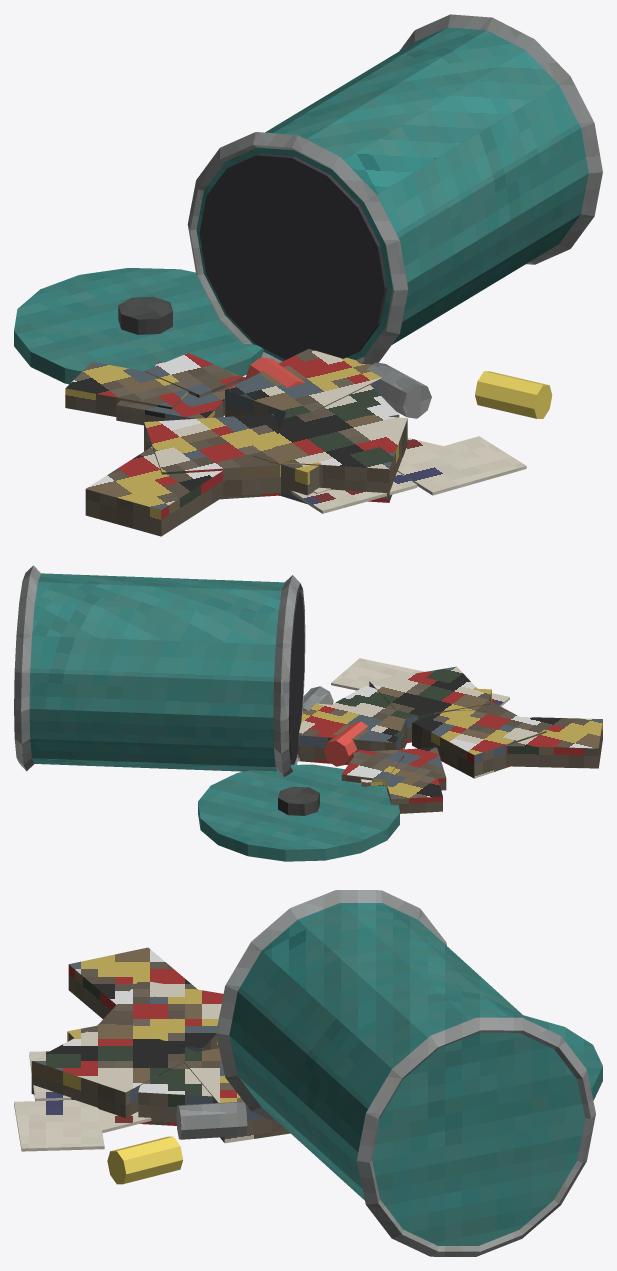
File: trash_bin_tipped.glb
The picture shows the model from 3 angles, top to bottom: view 1: azimuth 30°, elevation 25°; view 2: azimuth 150°, elevation 25°; view 3: azimuth 270°, elevation 25°; orthographic projection. The views are drawn at different scales.
Parts seen in each view (by area): view 1: body; view 2: body; view 3: body.
Part boxes in pixels (box(x1,y1,x2,y2)): body: box(14, 14, 602, 536); body: box(14, 565, 602, 861); body: box(14, 890, 602, 1256).
Bounding box in the file's own units: 1.28 × 0.476 × 1.06.
Materials: 8 (5 with a texture image).
